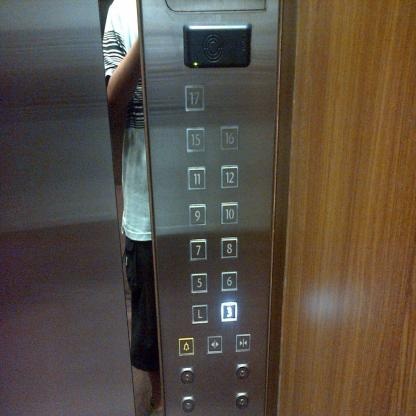10: (220, 201, 238, 225)
11: (186, 165, 206, 191)
12: (220, 164, 239, 190)
15: (185, 126, 206, 154)
16: (220, 124, 239, 152)
17: (184, 83, 205, 112)
3: (219, 301, 238, 322)
5: (191, 272, 208, 294)
6: (221, 270, 238, 292)
7: (189, 238, 207, 262)
8: (220, 235, 237, 260)
9: (188, 202, 207, 226)
L: (191, 304, 208, 324)
alarm: (178, 337, 194, 356)
close: (236, 334, 250, 352)
keyhole: (180, 396, 196, 414), (180, 366, 195, 385), (235, 364, 249, 380), (236, 392, 249, 409)
open: (207, 334, 222, 354)
